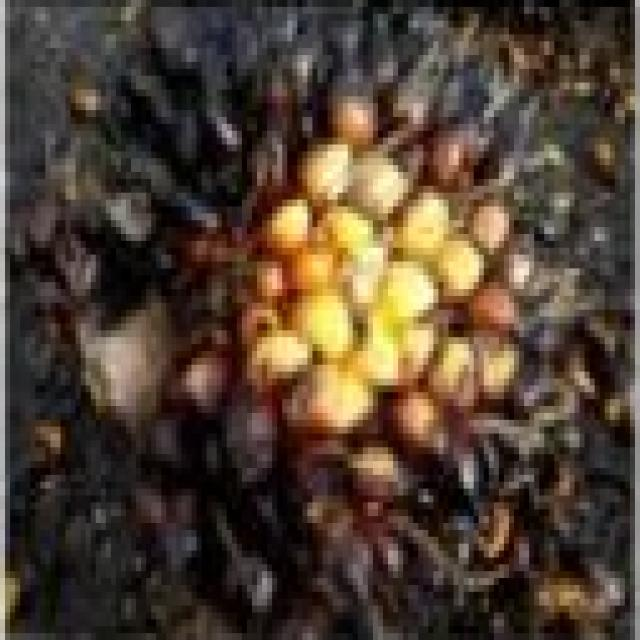FFB: (46, 11, 625, 625)
